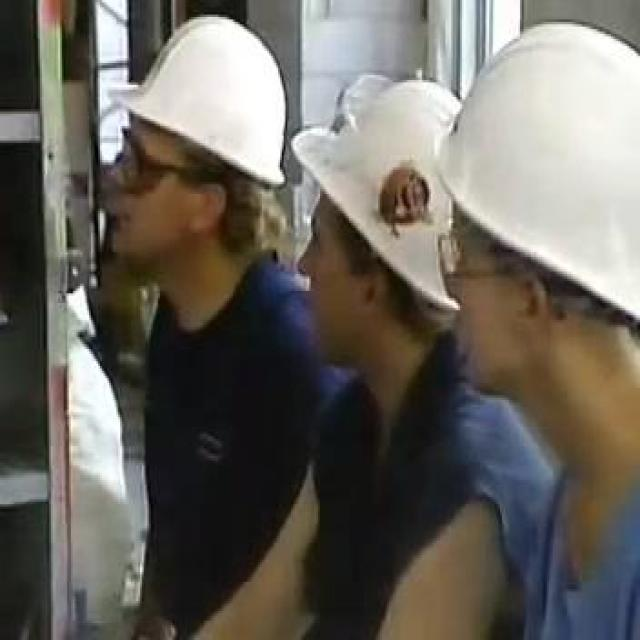Safety-Helmet: (440, 7, 640, 354), (292, 65, 474, 325), (109, 5, 298, 199)
